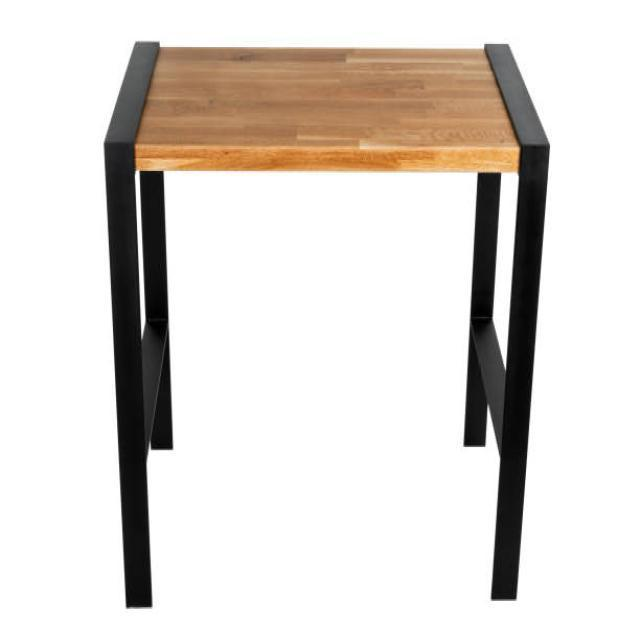table: (102, 39, 550, 607)
